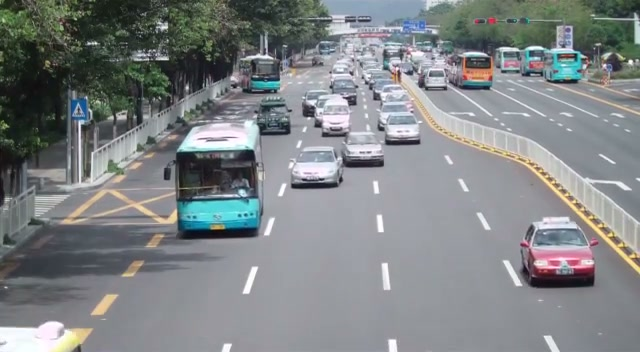bus: (173, 120, 266, 237), (239, 54, 281, 93), (454, 51, 494, 89), (543, 49, 584, 83), (521, 46, 548, 77), (495, 47, 522, 74)
car: (519, 217, 598, 287), (288, 145, 345, 188), (341, 131, 385, 167), (384, 112, 421, 145), (320, 97, 351, 136), (376, 100, 415, 131), (330, 77, 359, 106), (301, 90, 332, 117), (423, 68, 448, 91)
pedestrian: (230, 170, 251, 191), (600, 61, 612, 86)
